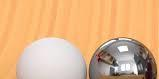ironball: (86, 33, 157, 78)
